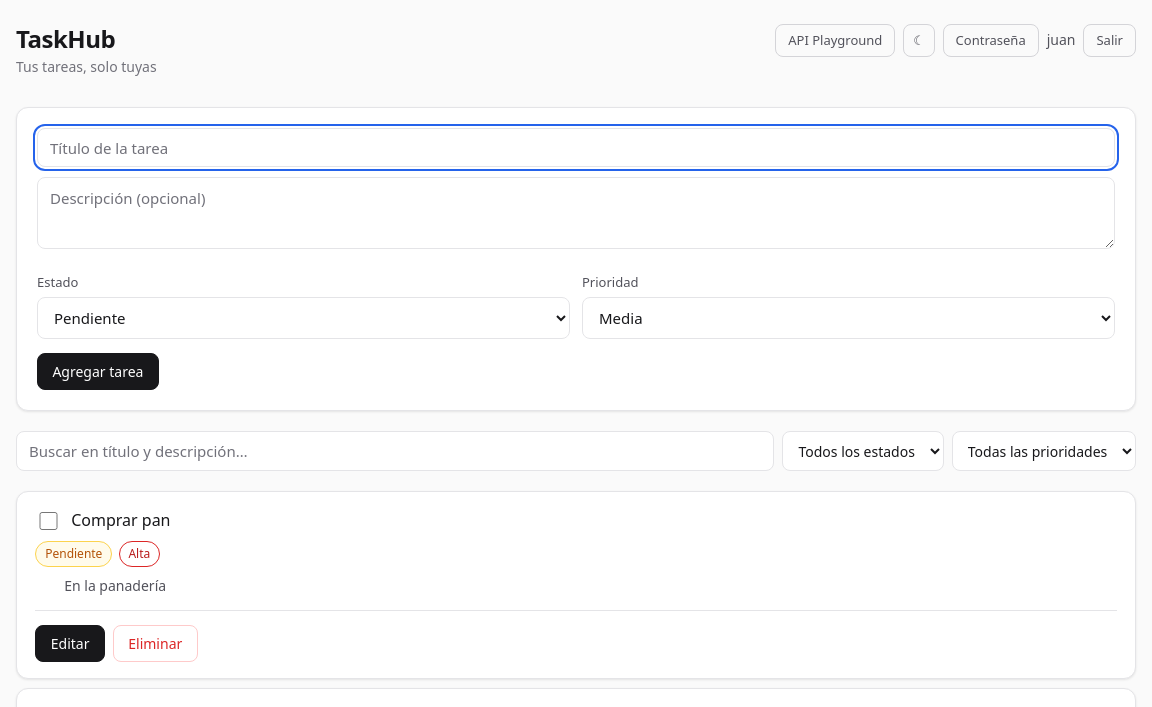
filtros: los resuelve la API, no el navegador › con filtros y sin resultados, el mensaje vacío es otro
Select "Completada" in the dropdown named "filtrar por estado" at (863, 451), box [782,431,944,471]
Wait 350 ms
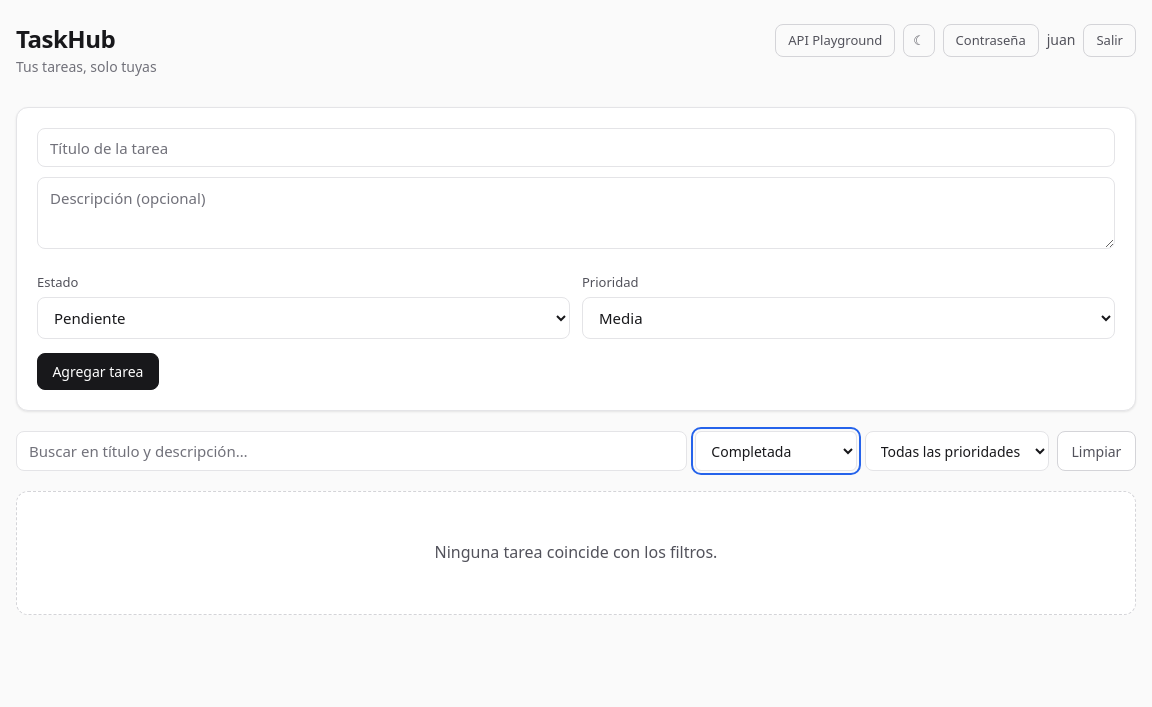
Result: the list item "Ninguna tarea coincide con los filtros." is shown at [16,491,1136,614]
